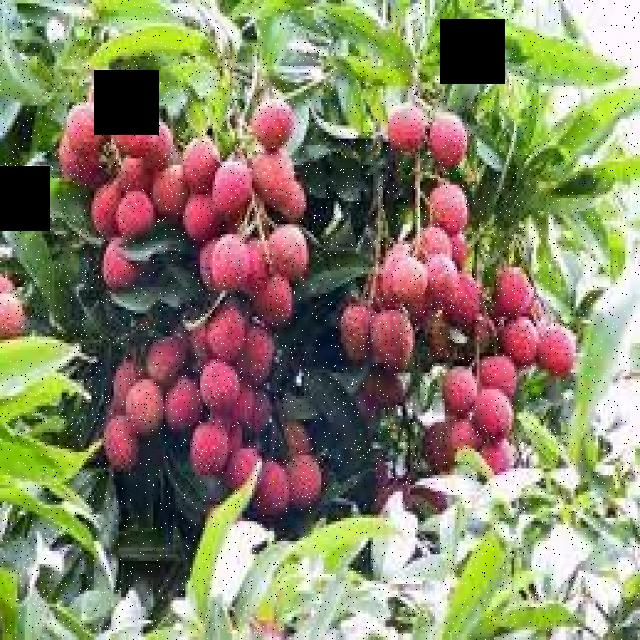lychee: (88, 142, 327, 496)
